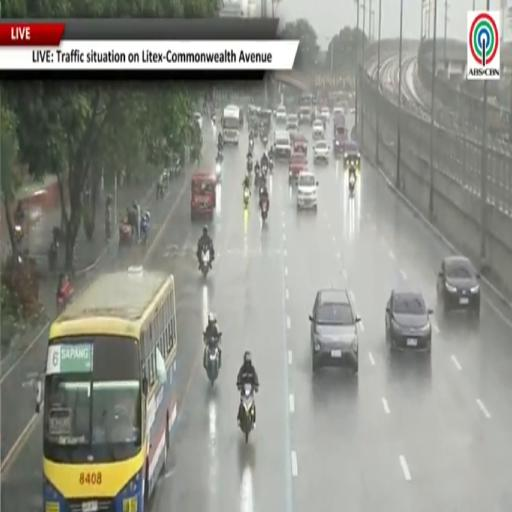bus: (36, 267, 177, 511), (222, 105, 240, 145)
car: (309, 288, 360, 374), (385, 290, 432, 353), (437, 255, 480, 317), (297, 171, 318, 210), (289, 152, 308, 183), (273, 131, 291, 161), (344, 140, 360, 169), (313, 140, 330, 164), (298, 106, 311, 124), (312, 120, 324, 139), (275, 105, 287, 124), (286, 115, 298, 131), (194, 112, 203, 130), (333, 106, 345, 119), (320, 107, 330, 122)
motorcycle: (240, 383, 254, 442), (206, 333, 221, 386), (200, 246, 210, 278), (140, 212, 150, 244), (48, 240, 58, 271), (14, 223, 23, 244), (261, 199, 268, 221), (349, 173, 355, 197), (243, 187, 250, 207), (254, 168, 261, 187), (216, 162, 221, 182), (216, 150, 223, 164), (247, 158, 253, 173), (261, 164, 267, 178), (261, 135, 268, 146), (249, 138, 254, 152), (218, 142, 223, 155), (269, 157, 273, 173)
